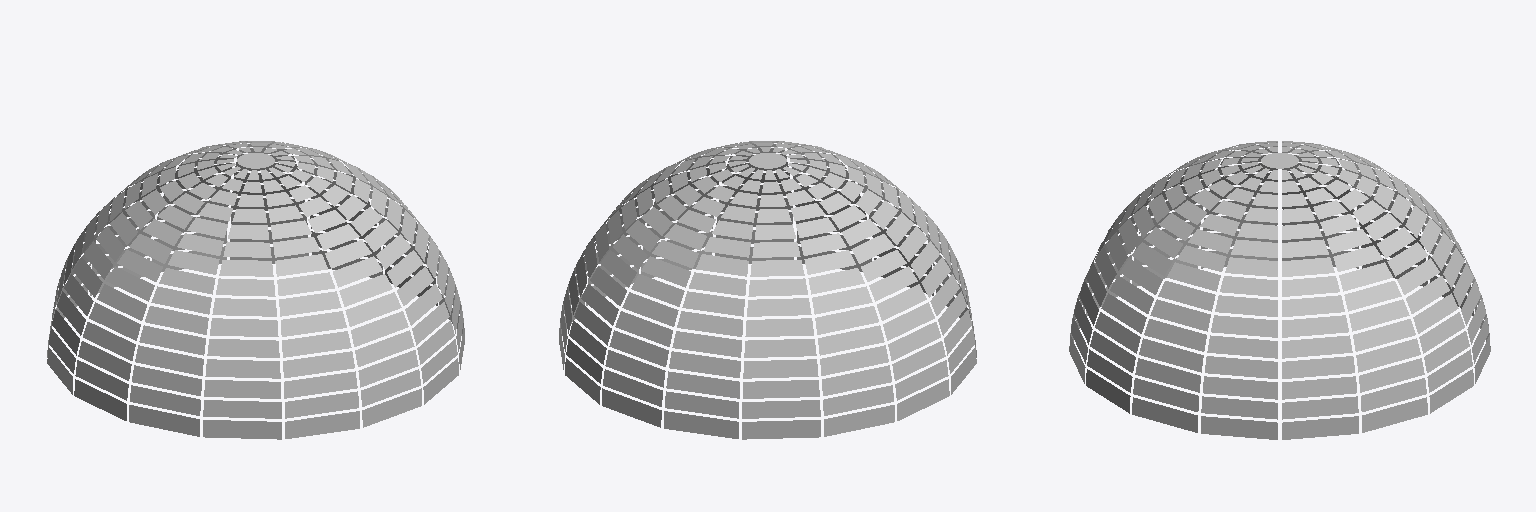
Rendered from spacebase_glass_ext.obj.
3 views of the same model, side by side, from view 1: azimuth 30°, elevation 25°; view 2: azimuth 150°, elevation 25°; view 3: azimuth 270°, elevation 25° (orthographic).
Parts seen in each view (by area): view 1: Glass_Sphere.004; view 2: Glass_Sphere.004; view 3: Glass_Sphere.004.
Boxes of the visible parts, x1,y1,x2,y2 form: Glass_Sphere.004: [47, 141, 464, 439]; Glass_Sphere.004: [559, 141, 976, 439]; Glass_Sphere.004: [1069, 141, 1490, 439].
Bounding box in the file's own units: 9.79 × 4.88 × 9.79.